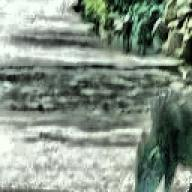boar: (130, 82, 192, 192)
